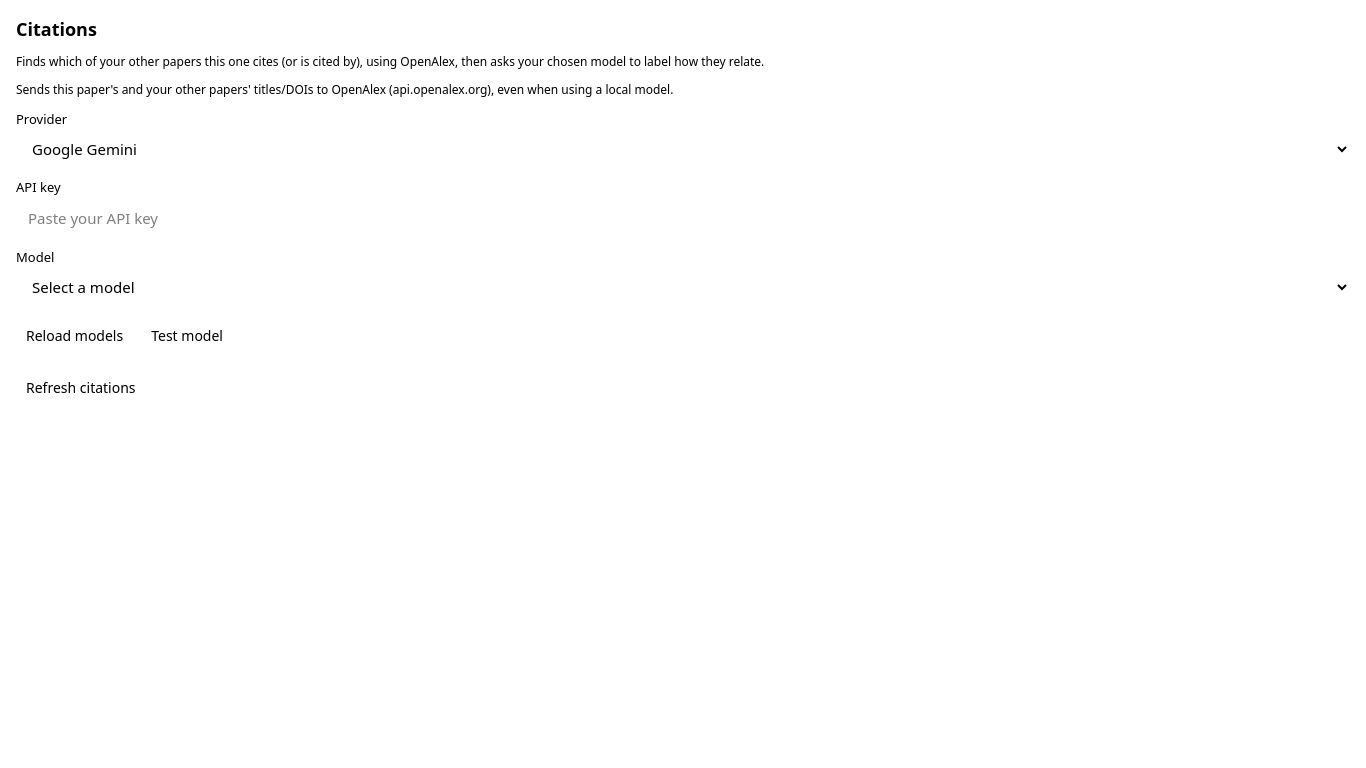
Test: CitationsPanel › refreshes, resolves the other paper's title, and labels record vs AI-classified edges differently
The image size is (1366, 768).
Type "test-key" into the password field labelled "API key". click: (683, 218)
box: [16,200,1350,236]
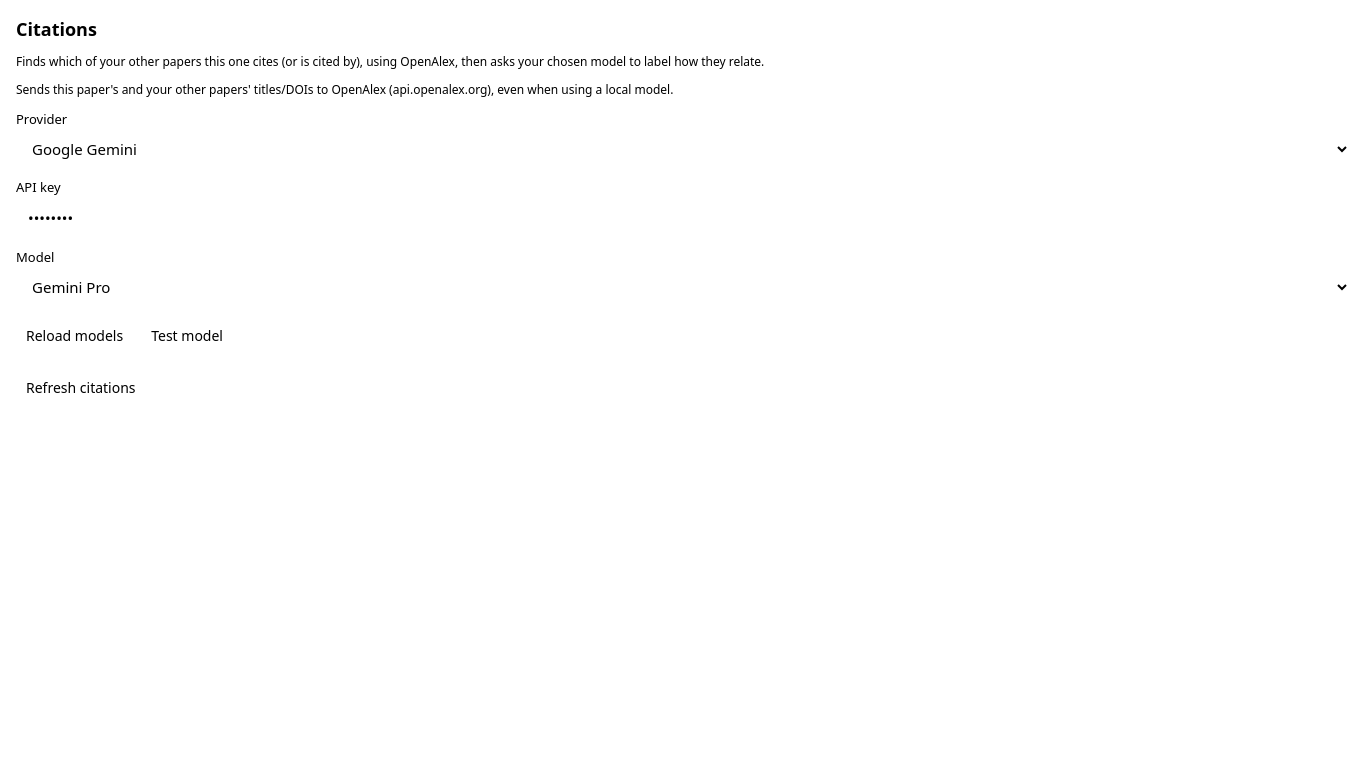
Click the button "Refresh citations". click: click(81, 388)
box: [16,372,146,404]
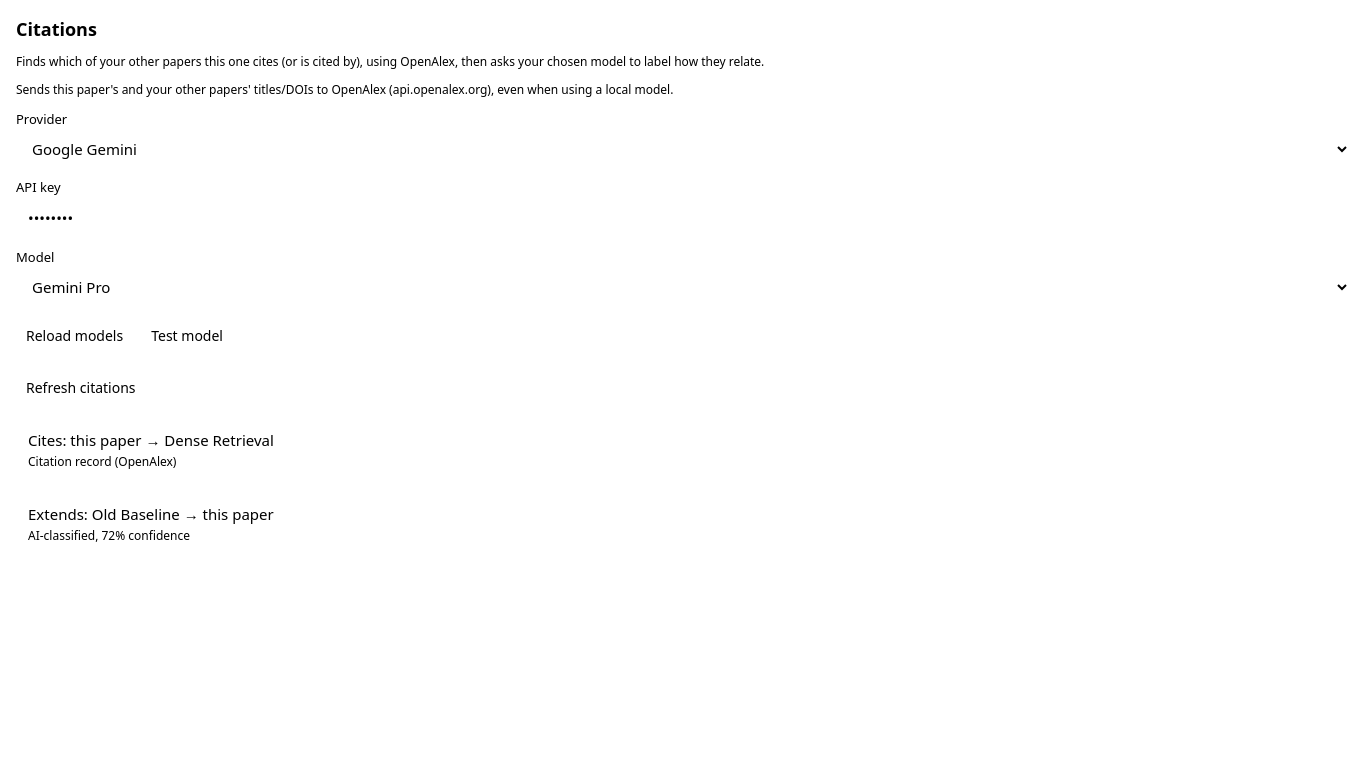
Now the text "this paper → Dense Retrieval" is shown, box [70,430,274,450]
Now the text "Old Baseline → this paper" is shown, box [92,504,274,524]
Now the text "Cites" is shown, box [28,430,62,450]
